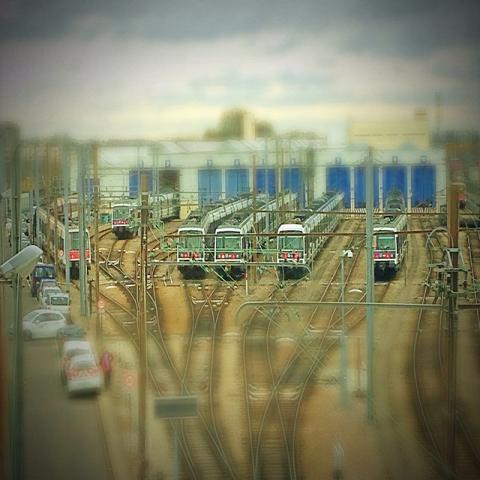car: (9, 306, 69, 344), (66, 354, 102, 394), (61, 341, 93, 385), (56, 326, 88, 359), (40, 291, 72, 320), (37, 276, 58, 299)
truck: (30, 264, 55, 298), (44, 292, 72, 316)
